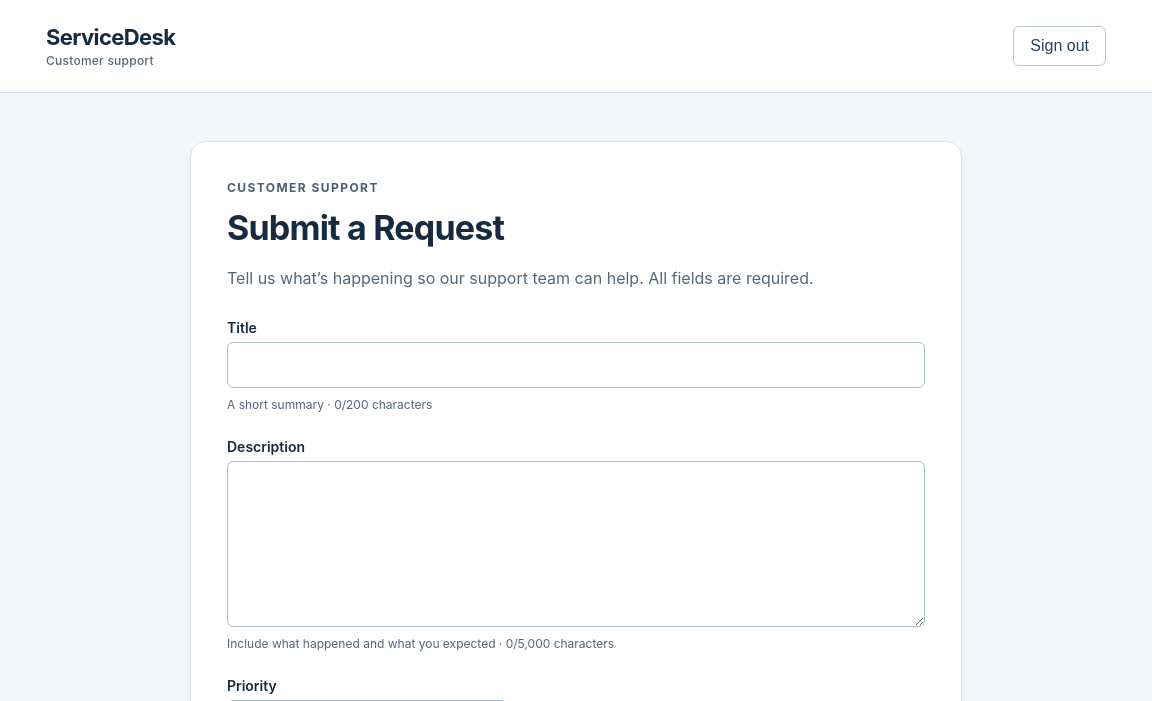
it: customer request submission › does not claim success if the server omits the ticket ID
Check: the heading "Submit a Request" is shown, box [227,207,504,248]
Type "Printer offline" into the field labelled "Title" at (576, 365), box [227,342,925,388]
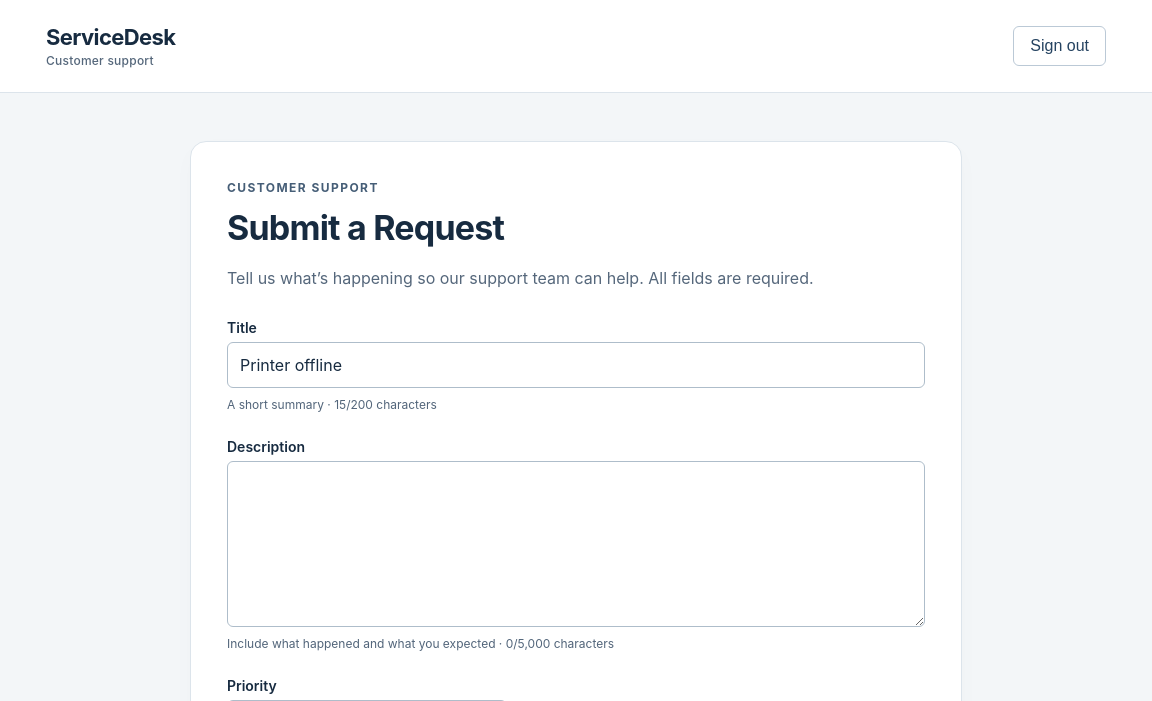
Type "The office printer cannot be reached." into the text box labelled "Description" at (576, 544), box [227,461,925,627]
(page scrolled)
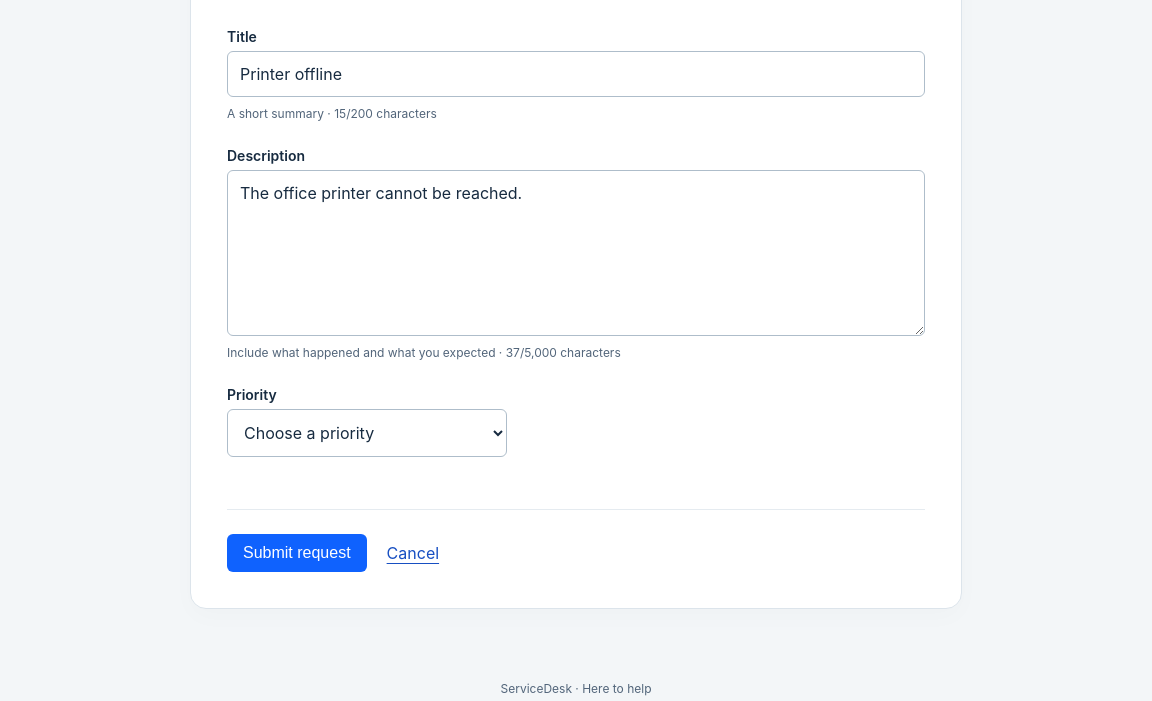
Select "Medium" in the dropdown labelled "Priority" at (367, 433), box [227,409,507,457]
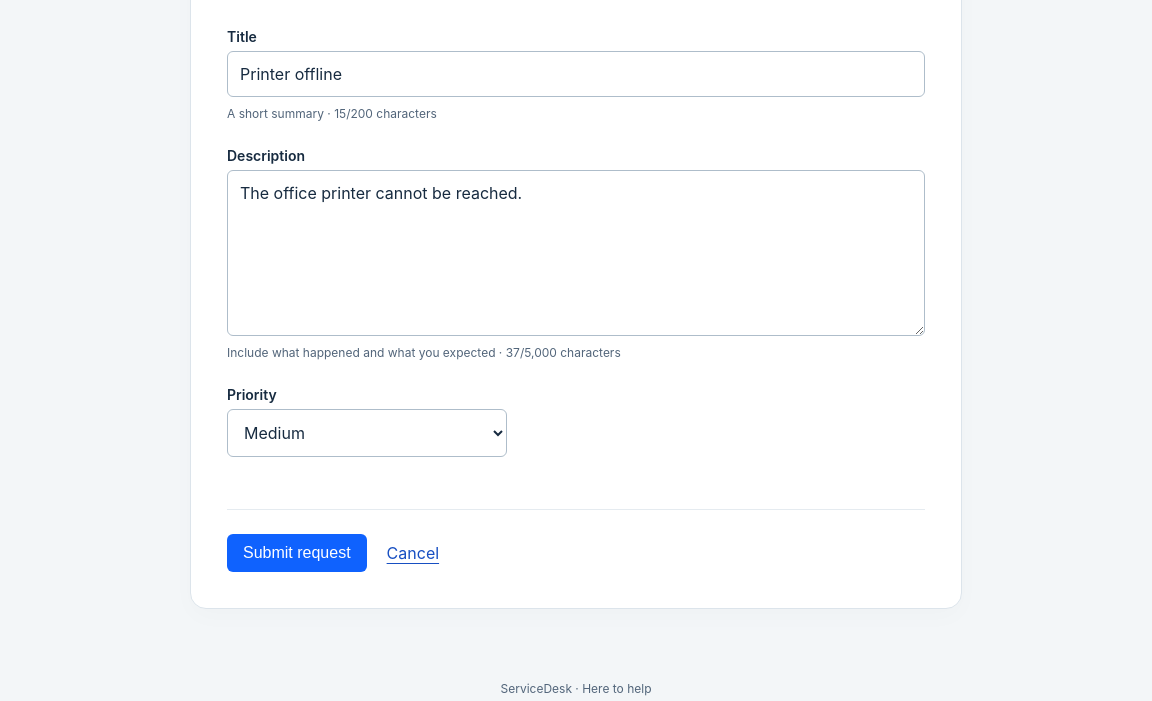
Click the button "Submit request" at (297, 553), box [227,534,367,572]
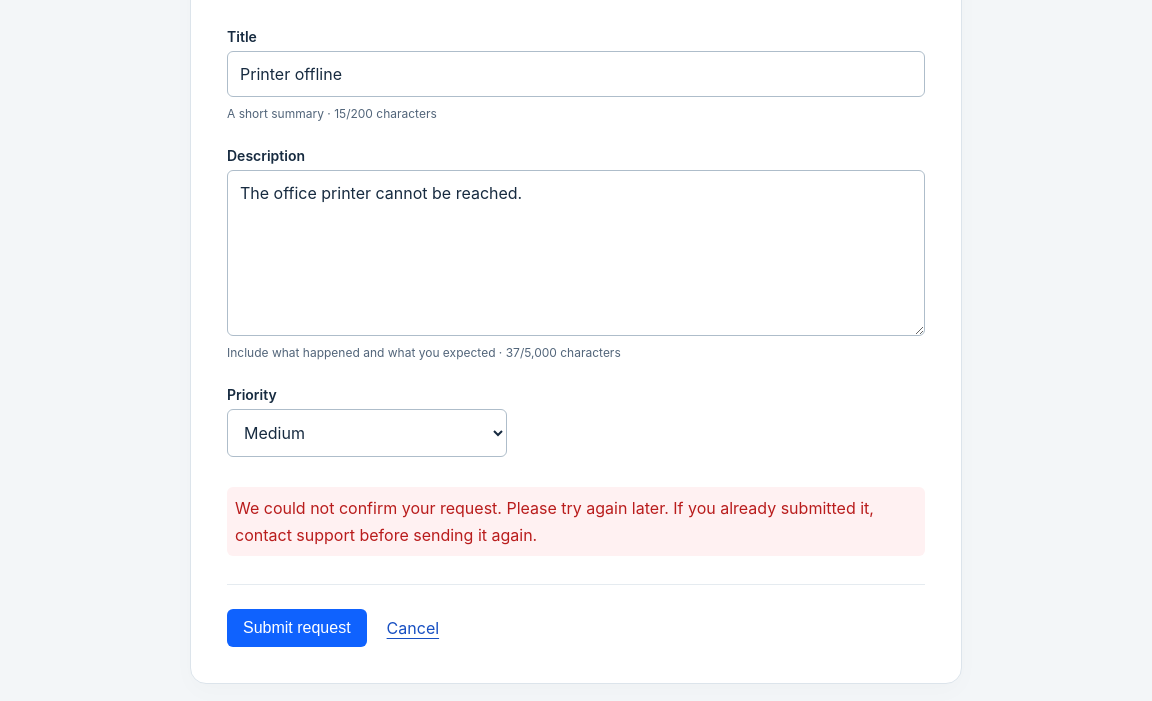
Check: the message shows "We could not confirm your request.", box [235,498,874,545]
